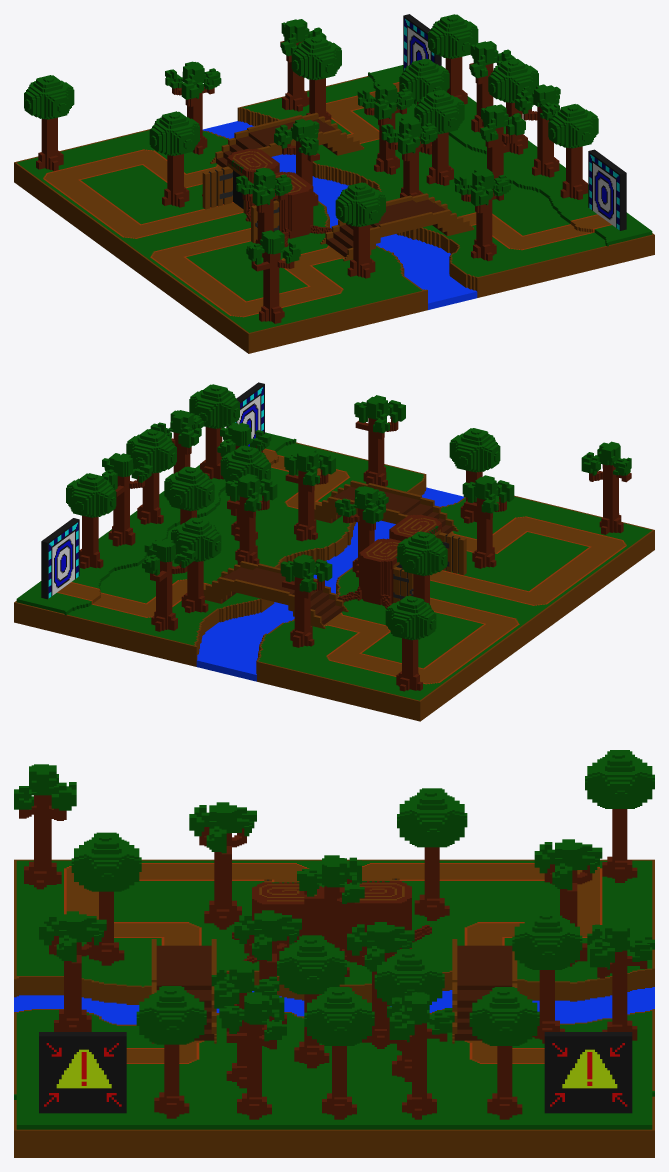
File: Florest.obj
3 renders of one model, top to bottom at view 1: azimuth 30°, elevation 25°; view 2: azimuth 150°, elevation 25°; view 3: azimuth 270°, elevation 25°, orthographic. The views are drawn at different scales.
Bounding box in the file's own units: 25.6 × 6.7 × 25.6.
Materials: 1 (1 with a texture image).
